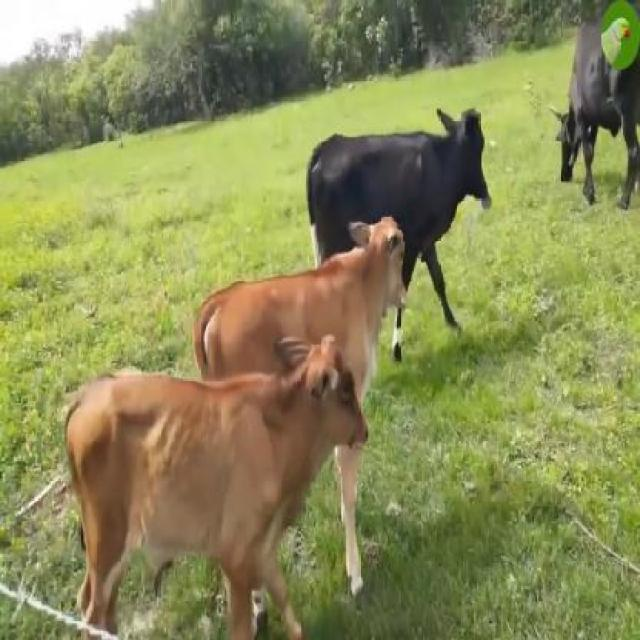Cow: (65, 342, 369, 638), (308, 106, 490, 337), (342, 210, 412, 344)
